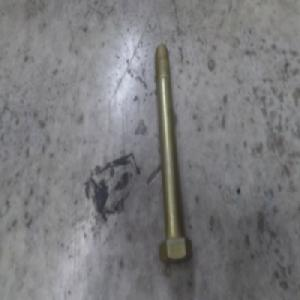Bolt: (154, 42, 192, 264)
